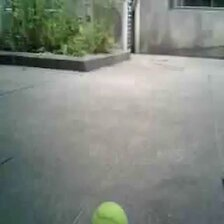tennis: (90, 202, 129, 224)
